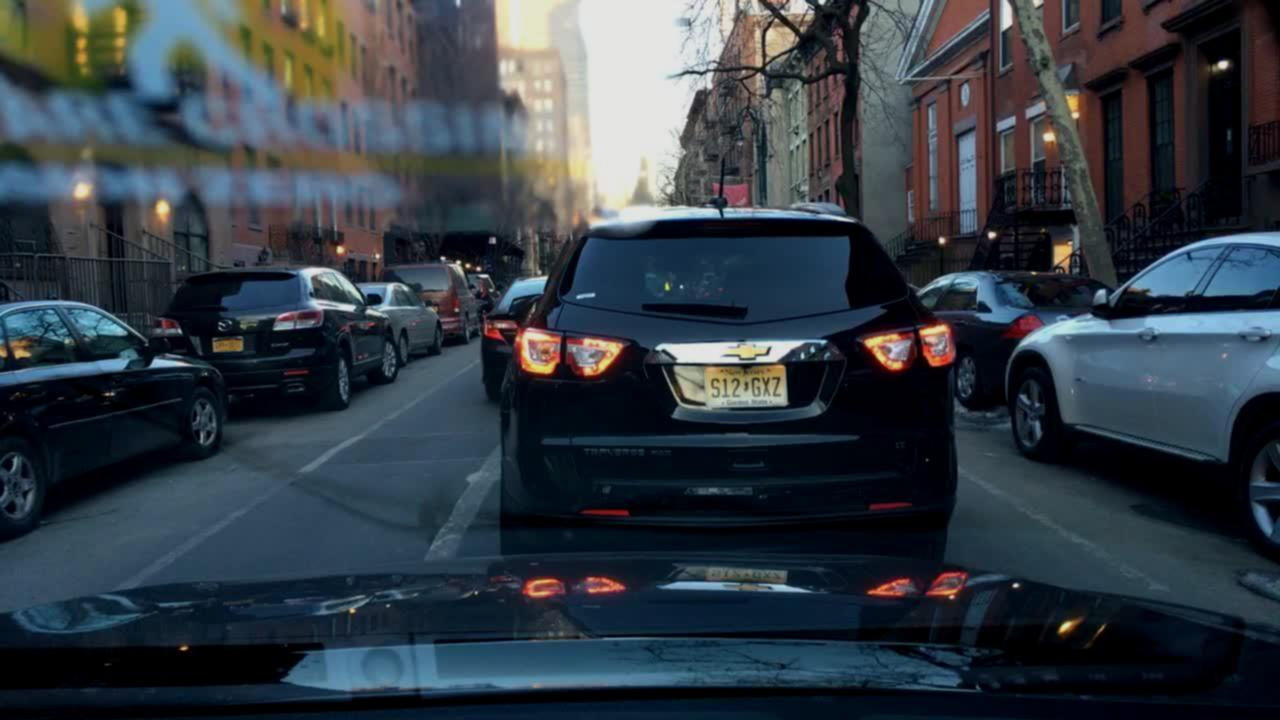Mazda: (212, 315, 236, 334)
chevrolet: (717, 329, 786, 375)
